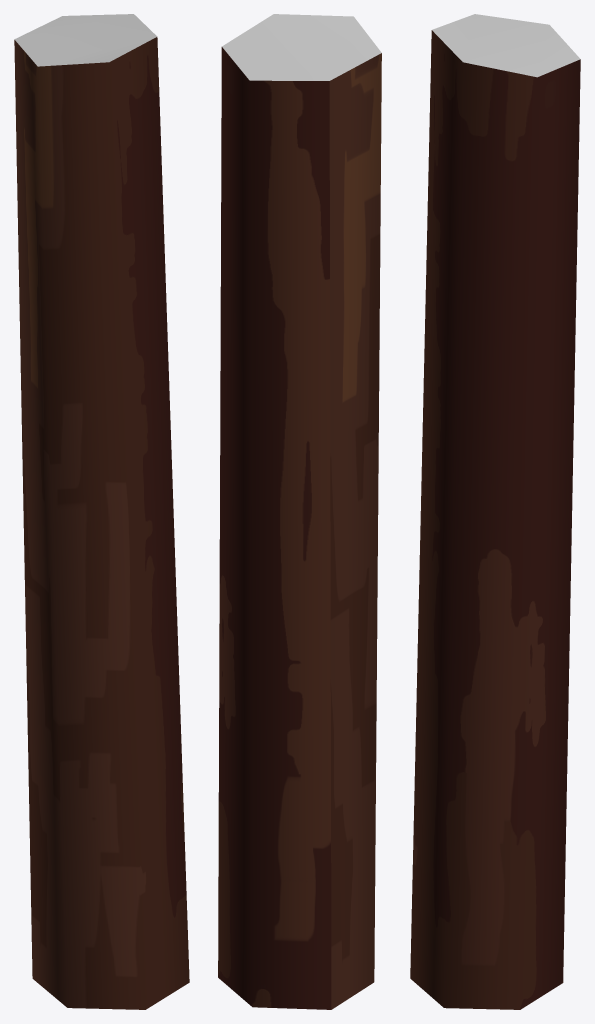
File: SM_PROP_wall_wood_post_02.fbx
The picture shows the model from 3 angles, left to right: view 1: azimuth 30°, elevation 25°; view 2: azimuth 150°, elevation 25°; view 3: azimuth 270°, elevation 25°; orthographic projection.
Visible parts, largest first — view 1: SM_PROP_wall_wood_post_02; view 2: SM_PROP_wall_wood_post_02; view 3: SM_PROP_wall_wood_post_02.
Part boxes in pixels (x1,y1,x2,y2): SM_PROP_wall_wood_post_02: (14, 14, 189, 1009); SM_PROP_wall_wood_post_02: (218, 14, 381, 1009); SM_PROP_wall_wood_post_02: (410, 14, 580, 1009).
Bounding box in the file's own units: 90.18 × 582 × 95.98.
